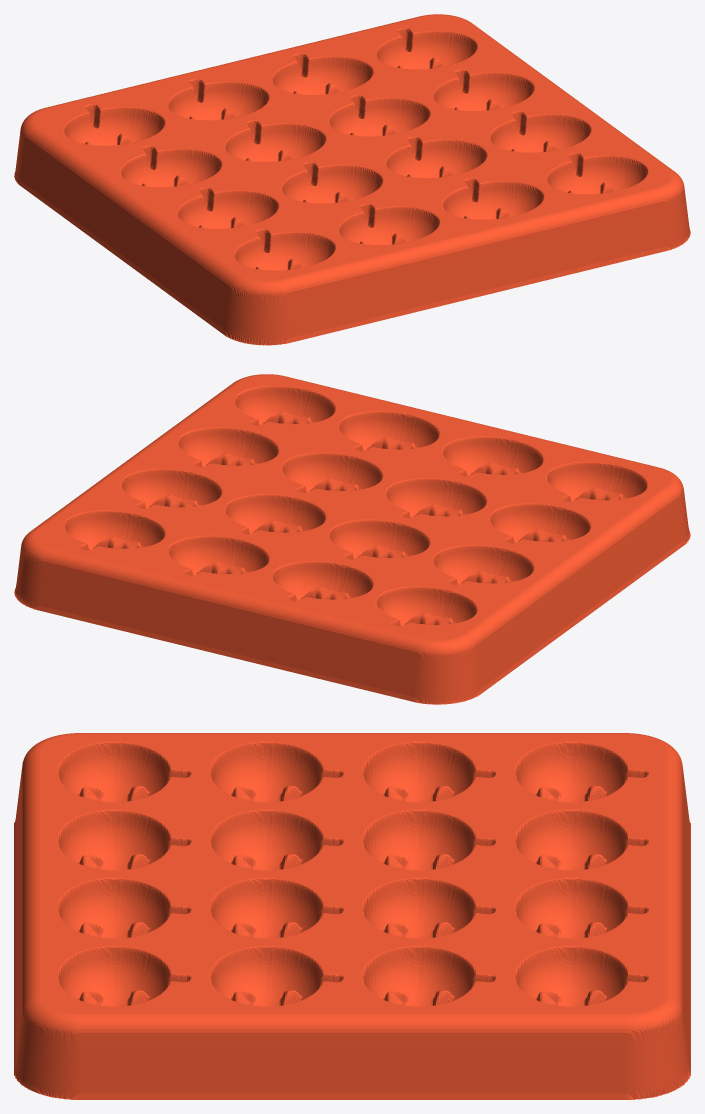
Rendered from mold.glb.
The picture shows the model from 3 angles, top to bottom: view 1: azimuth 30°, elevation 25°; view 2: azimuth 150°, elevation 25°; view 3: azimuth 270°, elevation 25°; orthographic projection. The views are drawn at different scales.
Parts seen in each view (by area): view 1: geometry_0; view 2: geometry_0; view 3: geometry_0.
Part boxes in pixels (x1,y1,x2,y2): geometry_0: [14, 14, 690, 345]; geometry_0: [14, 374, 690, 704]; geometry_0: [14, 733, 690, 1099].
Size of the model in its own units: 0.0972 by 0.0114 by 0.0924.
